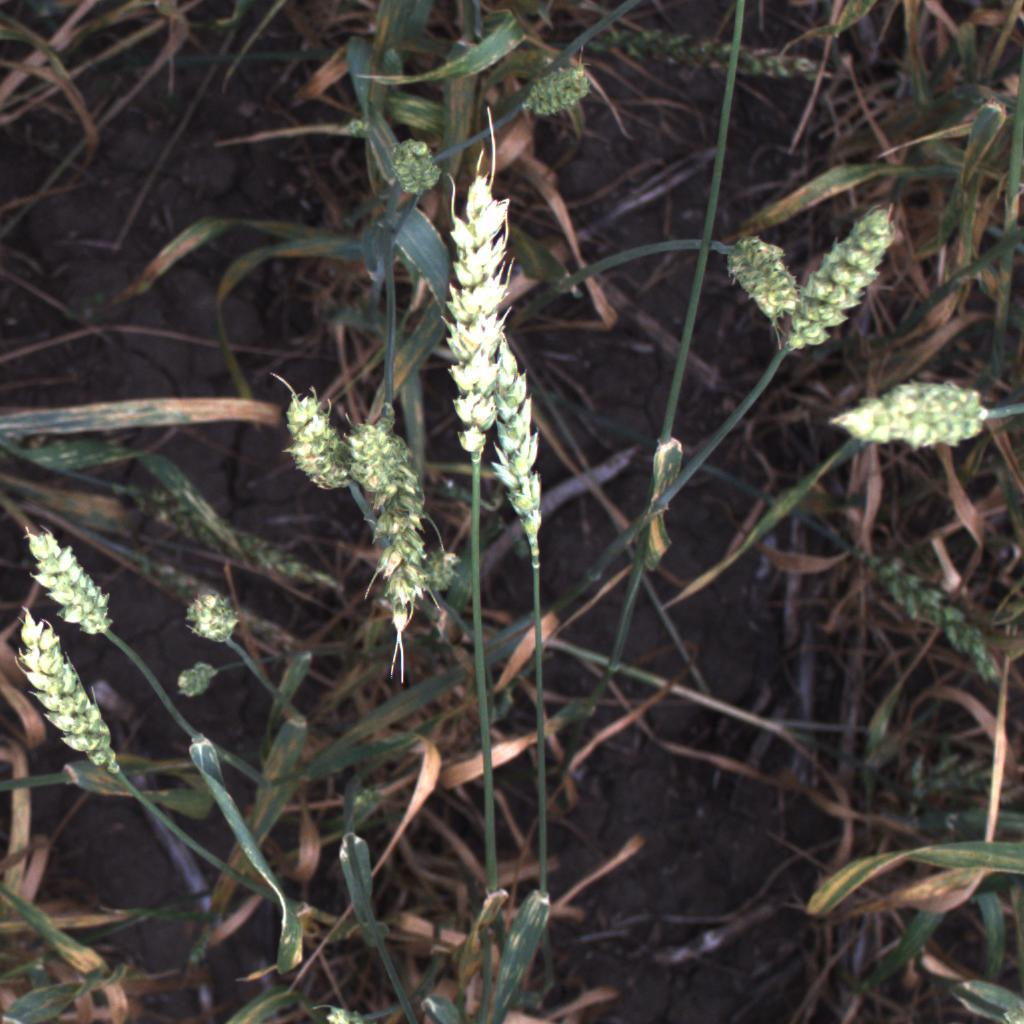0-0: (343, 394, 433, 655), (437, 155, 512, 462), (10, 607, 115, 778), (785, 194, 895, 354), (13, 518, 130, 648), (259, 374, 376, 501), (822, 370, 981, 456), (486, 339, 554, 539), (710, 222, 820, 335), (517, 60, 606, 129), (178, 583, 247, 649), (380, 132, 437, 198), (172, 660, 221, 700), (424, 549, 463, 592), (643, 0, 773, 2)
